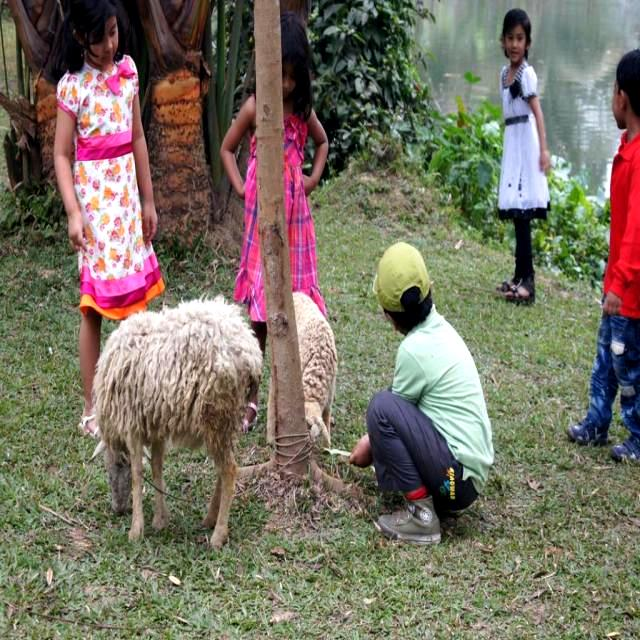sheep: (90, 296, 261, 547), (292, 291, 337, 447)
